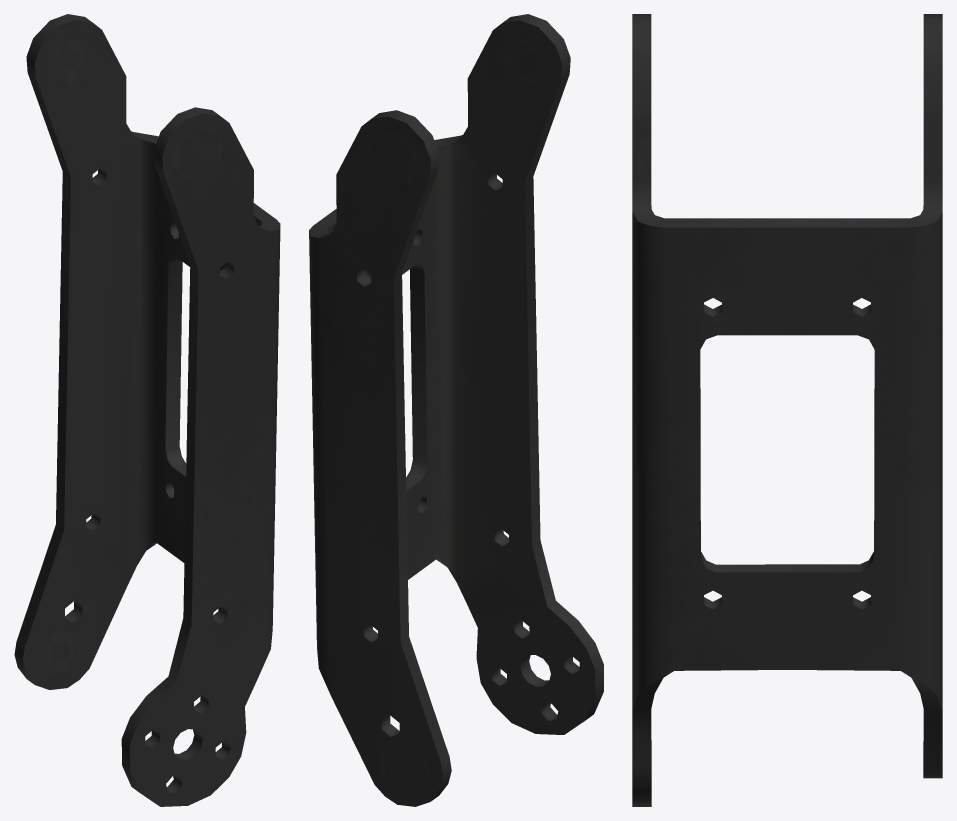
The model's file is arm_1.dae.
The picture shows the model from 3 angles, left to right: view 1: azimuth 30°, elevation 25°; view 2: azimuth 150°, elevation 25°; view 3: azimuth 270°, elevation 25°; orthographic projection. The views are drawn at different scales.
Visible parts, largest first — view 1: arm_1; view 2: arm_1; view 3: arm_1.
Part boxes in pixels (bbox=[...]): arm_1: bbox=[14, 14, 280, 806]; arm_1: bbox=[309, 14, 603, 806]; arm_1: bbox=[632, 14, 942, 806].
Bounding box in the file's own units: 0.0342 × 0.0501 × 0.1402.
